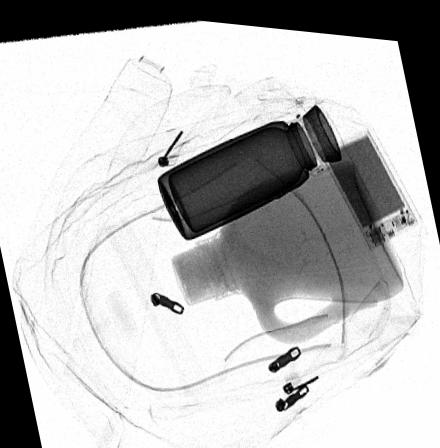Powerbank: (320, 118, 418, 243)
